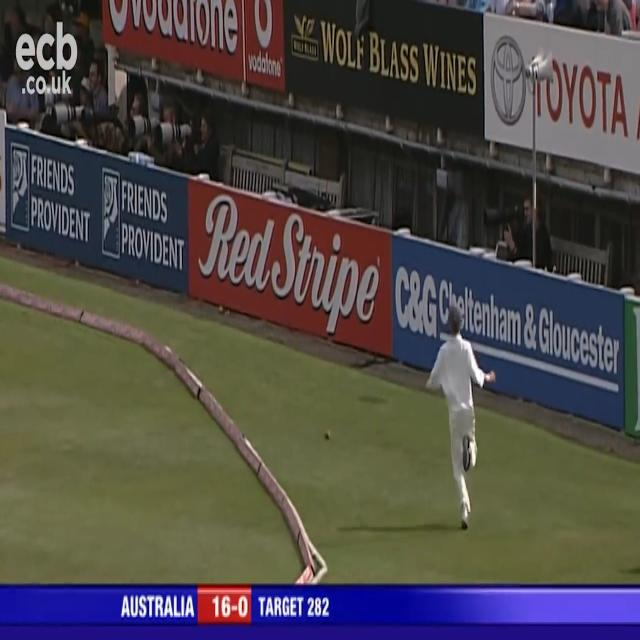ball: (321, 429, 336, 446)
